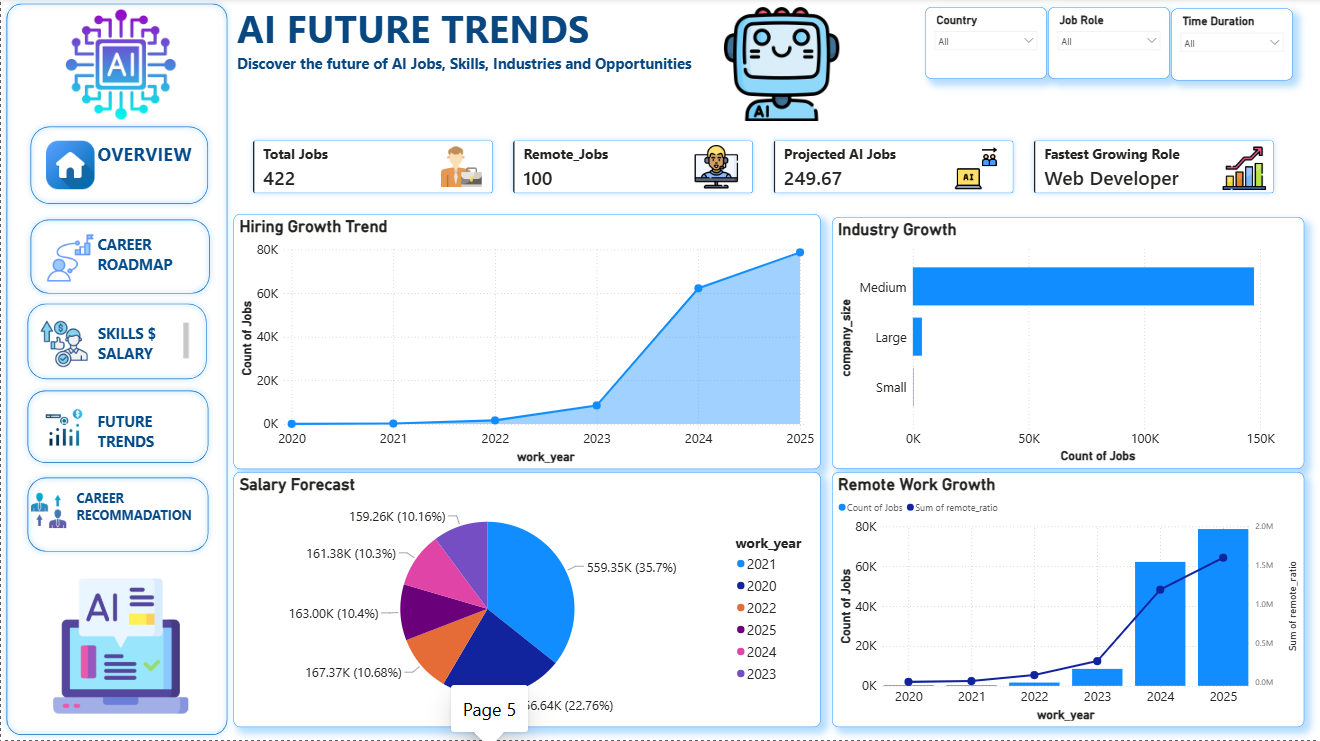

The dashboard page shown, as its layout file describes it:
{"tool":"powerbi","page":{"name":"Page 5","canvas":[1920,1080],"ordinal":4},"visuals":[{"type":"shape","box":[0,0,337.6,1080.8],"z":0},{"type":"image","box":[65.6,204,70.4,80.2],"z":1000},{"type":"shape","box":[34,179.7,274.5,128.7],"z":2000},{"type":"shape","box":[34,313.3,276.9,123.9],"z":3000},{"type":"shape","box":[31.6,437.2,276.9,126.3],"z":4000},{"type":"shape","box":[31.6,563.5,279.3,121.4],"z":5000},{"type":"shape","box":[31.6,689.8,279.3,123.9],"z":6000},{"type":"textbox","box":[136,337.6,172.4,80.2],"z":7000},{"type":"image","box":[65.6,337.6,70.4,80.2],"z":8000},{"type":"image","box":[48.6,466.3,87.4,72.9],"z":9000},{"type":"textbox","box":[136,466.3,143.3,72.9],"z":10000},{"type":"textbox","box":[136,204,172.4,80.2],"z":11000},{"type":"textbox","box":[136,595.1,174.9,89.9],"z":12000},{"type":"image","box":[48.6,595.1,87.4,58.3],"z":13000},{"type":"textbox","box":[104.4,709.2,206.5,72.9],"z":14000},{"type":"image","box":[43.7,709.2,51,72.9],"z":15000},{"type":"image","box":[38.9,845.2,269.6,196.7],"z":16000},{"type":"textbox","box":[337.6,0,1365,179.7],"z":17000},{"type":"image","box":[1020.1,12.1,233.2,167.6],"z":18000},{"type":"image","box":[38.9,12.1,269.6,167.6],"z":19000},{"type":"slicer","fields":{"Values":["salaries.Company_Location"]},"box":[1345.6,12.1,177.3,104.4],"z":20000},{"type":"slicer","fields":{"Values":["salaries.Jobs"]},"box":[1522.9,12.1,177.3,104.4],"z":21000},{"type":"slicer","fields":{"Values":["salaries.work_year"]},"box":[1702.6,14.6,177.3,104.4],"z":22000},{"type":"cardVisual","fields":{"Data":["Count(salaries.Jobs)","Max(salaries.remote_ratio)","salaries.Count of Jobs average per remote_ratio","Max(salaries.Jobs)1"]},"box":[337.6,179.7,1542.3,133.6],"z":23000},{"type":"image","box":[631.5,213.7,77.7,63.1],"z":24000},{"type":"image","box":[1770.6,216.2,77.7,63.1],"z":25000},{"type":"image","box":[1379.6,216.2,77.7,63.1],"z":26000},{"type":"image","box":[1003.1,213.7,77.7,63.1],"z":27000},{"type":"areaChart","title":"Hiring Growth Trend","fields":{"Category":["salaries.work_year"],"Y":["CountNonNull(salaries.Jobs)"]},"box":[337.6,313.3,855,371.6],"z":28000},{"type":"pieChart","title":"Salary Forecast","fields":{"Category":["salaries.work_year"],"Y":["Avg(salaries.salary)"]},"box":[337.6,689.8,855,371.6],"z":29000},{"type":"clusteredBarChart","title":"Industry Growth","fields":{"Category":["salaries.company_size"],"Y":["CountNonNull(salaries.Jobs)"]},"box":[1209.6,318.2,687.4,366.8],"z":30000},{"type":"lineClusteredColumnComboChart","title":"Remote Work Growth","fields":{"Category":["salaries.work_year"],"Y":["CountNonNull(salaries.Jobs)"],"Y2":["Sum(salaries.remote_ratio)"]},"box":[1209.6,689.8,687.4,371.6],"z":31000}]}

Visuals, with their boxes in screenshot pixels (x1, y1, x2, y2), scaled from the page's 1920x1080 canvas onto the 1320x741 screenshot:
shape: rect(0, 0, 232, 740)
image: rect(45, 140, 94, 195)
shape: rect(23, 123, 212, 212)
shape: rect(23, 215, 214, 300)
shape: rect(22, 300, 212, 387)
shape: rect(22, 387, 214, 470)
shape: rect(22, 473, 214, 558)
textbox: rect(94, 232, 212, 287)
image: rect(45, 232, 94, 287)
image: rect(33, 320, 94, 370)
textbox: rect(94, 320, 192, 370)
textbox: rect(94, 140, 212, 195)
textbox: rect(94, 408, 214, 470)
image: rect(33, 408, 94, 448)
textbox: rect(72, 487, 214, 537)
image: rect(30, 487, 65, 537)
image: rect(27, 580, 212, 715)
textbox: rect(232, 0, 1171, 123)
image: rect(701, 8, 862, 123)
image: rect(27, 8, 212, 123)
slicer - salaries.Company_Location: rect(925, 8, 1047, 80)
slicer - salaries.Jobs: rect(1047, 8, 1169, 80)
slicer - salaries.work_year: rect(1171, 10, 1292, 82)
cardVisual - Count(salaries.Jobs) x Max(salaries.remote_ratio): rect(232, 123, 1292, 215)
image: rect(434, 147, 488, 190)
image: rect(1217, 148, 1271, 192)
image: rect(948, 148, 1002, 192)
image: rect(690, 147, 743, 190)
"Hiring Growth Trend" areaChart: rect(232, 215, 820, 470)
"Salary Forecast" pieChart: rect(232, 473, 820, 728)
"Industry Growth" clusteredBarChart: rect(832, 218, 1304, 470)
"Remote Work Growth" lineClusteredColumnComboChart: rect(832, 473, 1304, 728)
